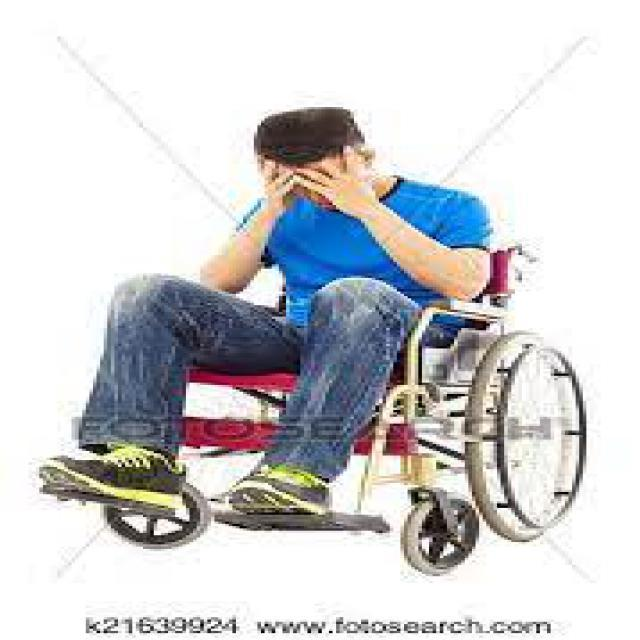wheelchairs: (32, 244, 608, 576)
